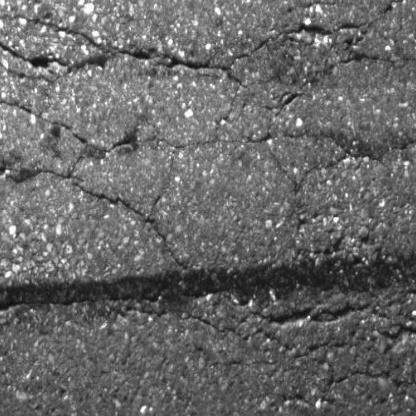Cracks: (0, 0, 416, 276), (268, 127, 416, 199), (326, 50, 416, 74)
